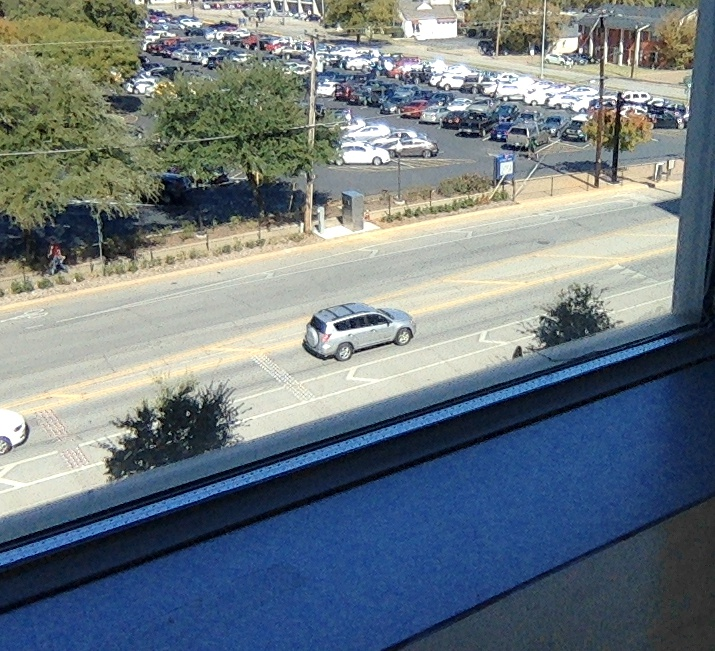car: (300, 300, 415, 363)
